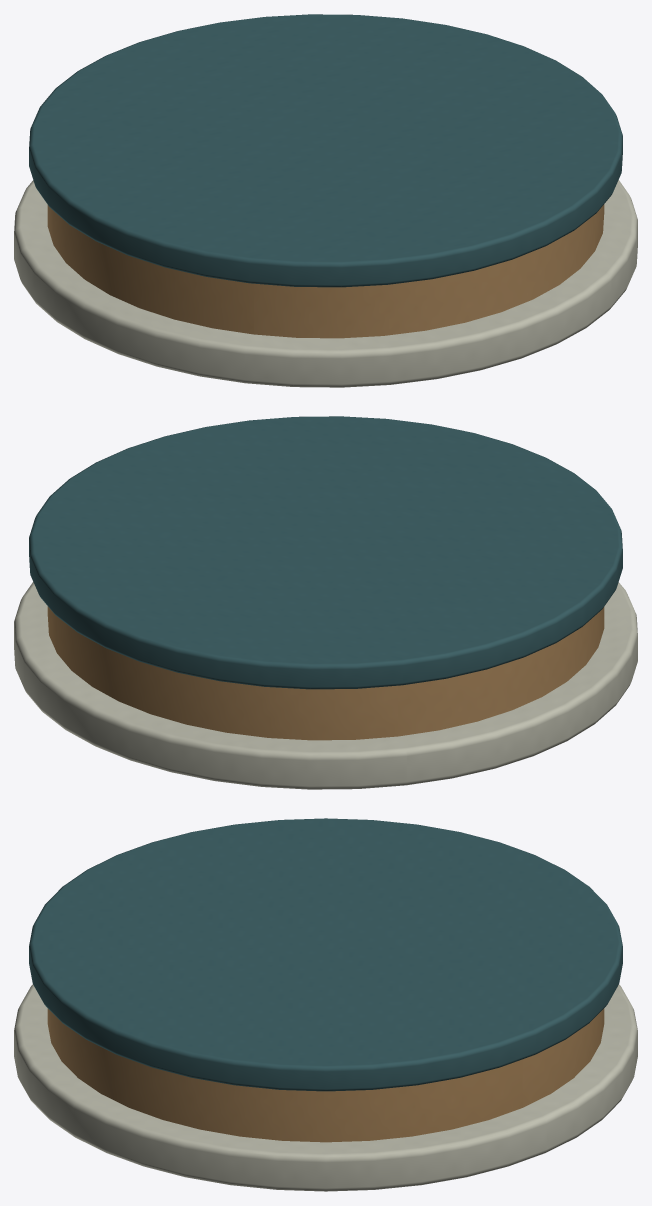
Rendered from pedestal.glb.
3 renders of one model, top to bottom at view 1: azimuth 30°, elevation 25°; view 2: azimuth 150°, elevation 25°; view 3: azimuth 270°, elevation 25°, orthographic.
Visible parts, largest first — view 1: SoftTop, LowerPlinth, PedestalColumn; view 2: SoftTop, LowerPlinth, PedestalColumn; view 3: SoftTop, LowerPlinth, PedestalColumn.
Part boxes in pixels (x1,y1,x2,y2): SoftTop: [29, 14, 622, 287]; LowerPlinth: [14, 180, 637, 387]; PedestalColumn: [47, 204, 604, 338]; SoftTop: [29, 416, 622, 689]; LowerPlinth: [14, 582, 637, 789]; PedestalColumn: [47, 606, 604, 740]; SoftTop: [29, 818, 622, 1091]; LowerPlinth: [14, 984, 637, 1191]; PedestalColumn: [47, 1008, 604, 1142].
Bounding box in the file's own units: 1.66 × 0.3525 × 1.66.
1 material, 1 textured.
